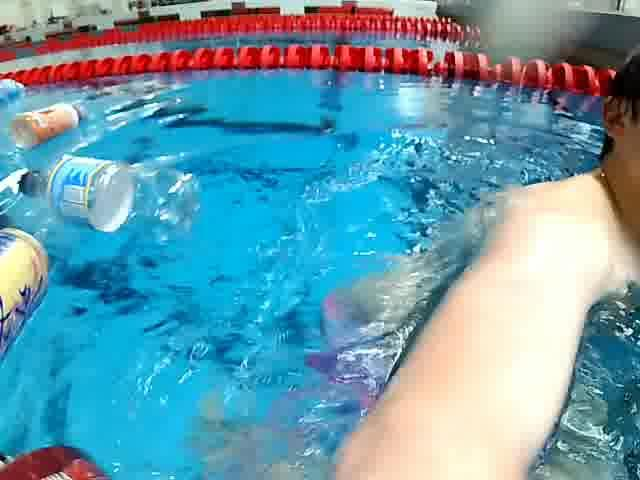Bottle: (19, 154, 197, 244), (9, 97, 90, 150)
Can: (0, 222, 51, 372)
